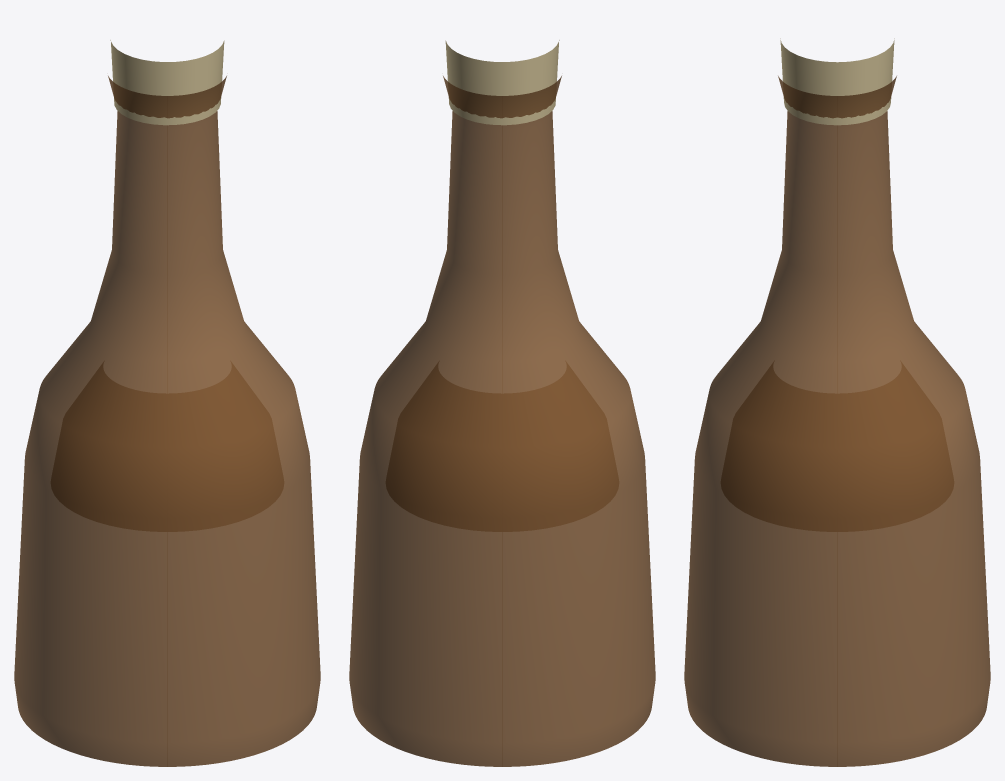
Rendered from diplomatico-reserva.glb.
3 views of the same model, side by side, from view 1: azimuth 30°, elevation 25°; view 2: azimuth 150°, elevation 25°; view 3: azimuth 270°, elevation 25° (orthographic).
Parts seen in each view (by area): view 1: body, cap; view 2: body, cap; view 3: body, cap.
Part boxes in pixels (<box>): body: <box>14,76,320,766</box>; cap: <box>110,40,224,125</box>; body: <box>349,76,655,766</box>; cap: <box>445,40,559,125</box>; body: <box>684,76,990,766</box>; cap: <box>780,38,894,125</box>.
Bounding box in the file's own units: 0.43 × 1.03 × 0.43.
